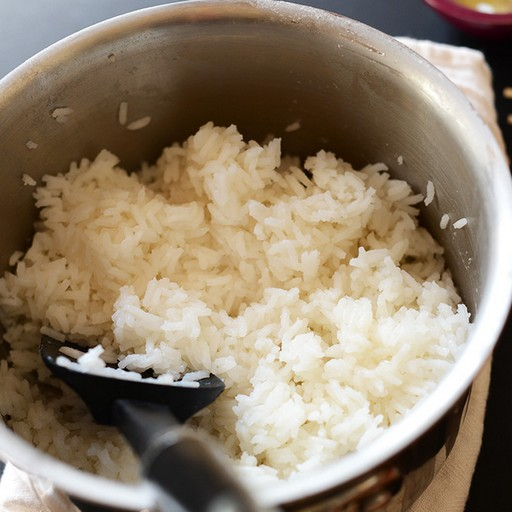rice: (129, 203, 368, 338)
